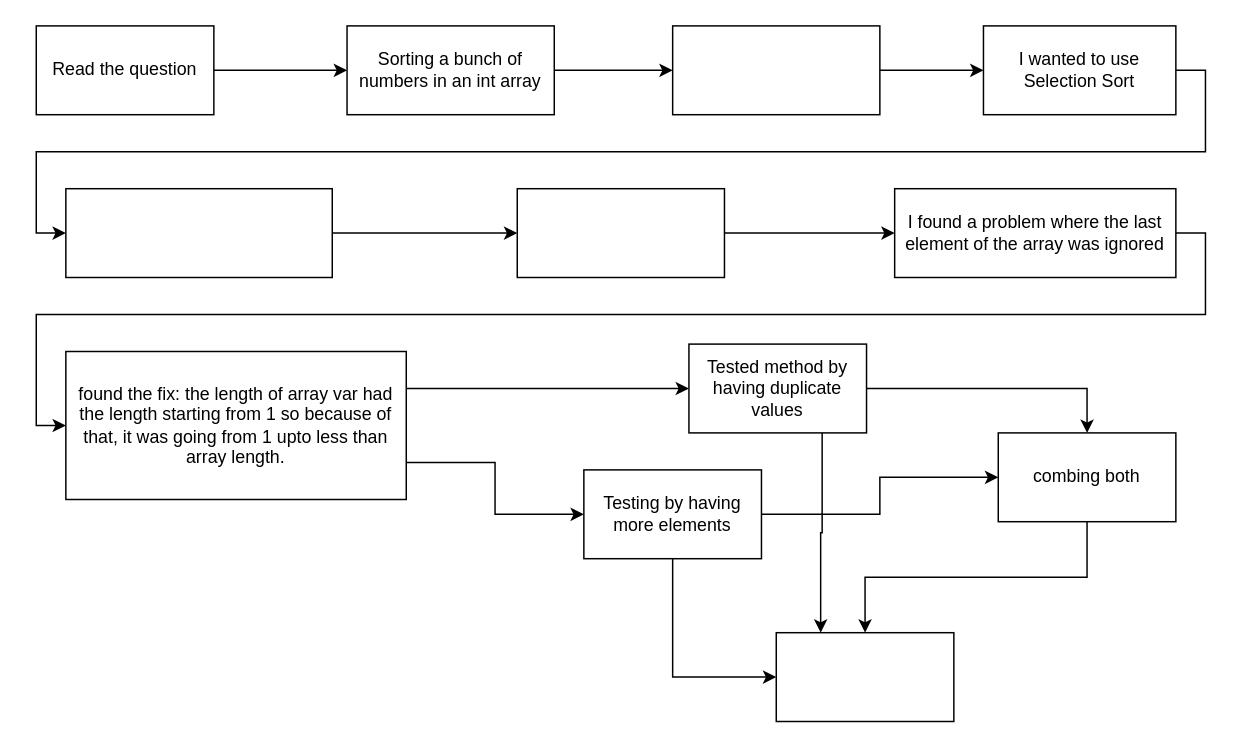
The diagram is 1243 pixels wide and 747 high, and some of its shapes have lost their labels. Here are the shapes that lost their labels. From the top down, the centre of each, then its label:
point (775, 69): The first element is the length od the array
point (198, 232): Researched the algorithm for selection sort because I forgot
point (620, 232): Testing method using example array
point (864, 676): success
